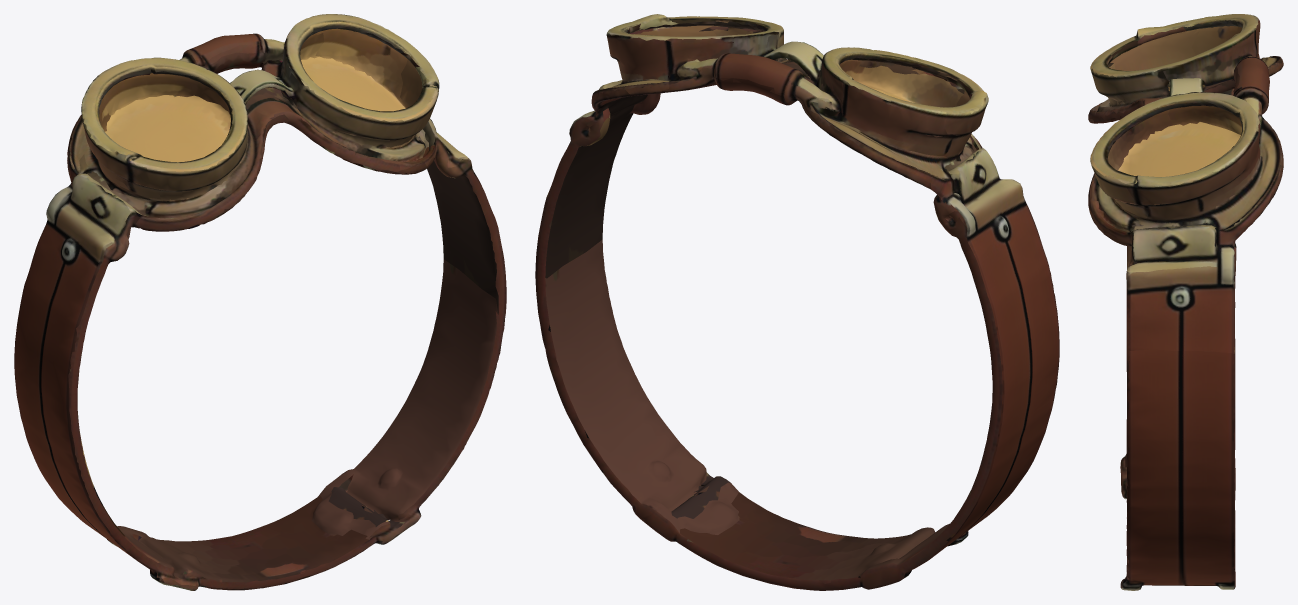
The model's file is item_goggles.glb.
3 renders of one model, left to right at view 1: azimuth 30°, elevation 25°; view 2: azimuth 150°, elevation 25°; view 3: azimuth 270°, elevation 25°, orthographic. The views are drawn at different scales.
Visible parts, largest first — view 1: tmprloqkil4.ply; view 2: tmprloqkil4.ply; view 3: tmprloqkil4.ply.
Part boxes in pixels (x1=…): tmprloqkil4.ply: x1=14, y1=14, x2=506, y2=590; tmprloqkil4.ply: x1=535, y1=14, x2=1059, y2=590; tmprloqkil4.ply: x1=1088, y1=14, x2=1283, y2=590.
Size of the model in its own units: 1.8 by 1.96 by 0.7044.
Materials: 1 (1 with a texture image).
